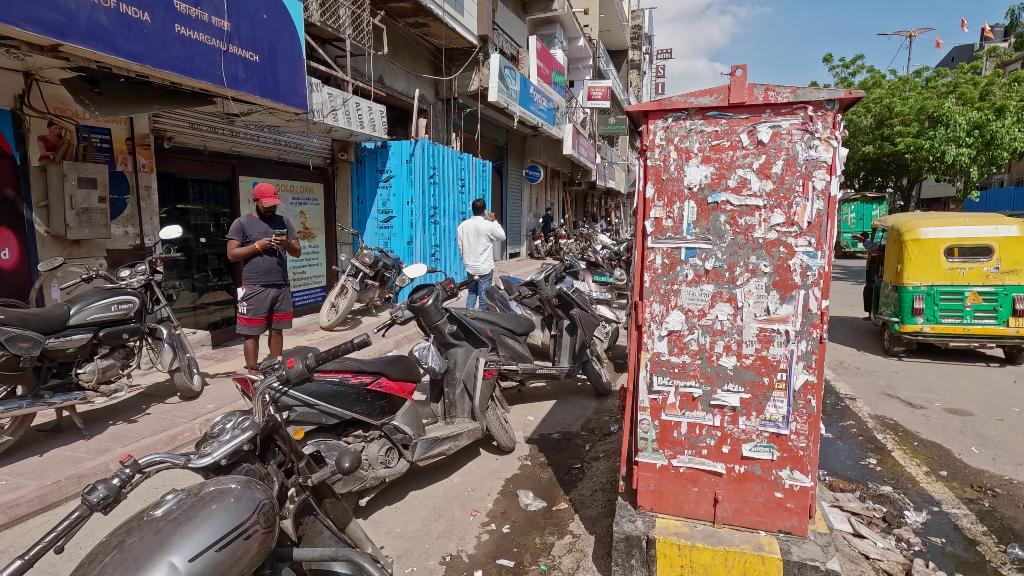garbage: (515, 488, 550, 513), (902, 505, 933, 530)
